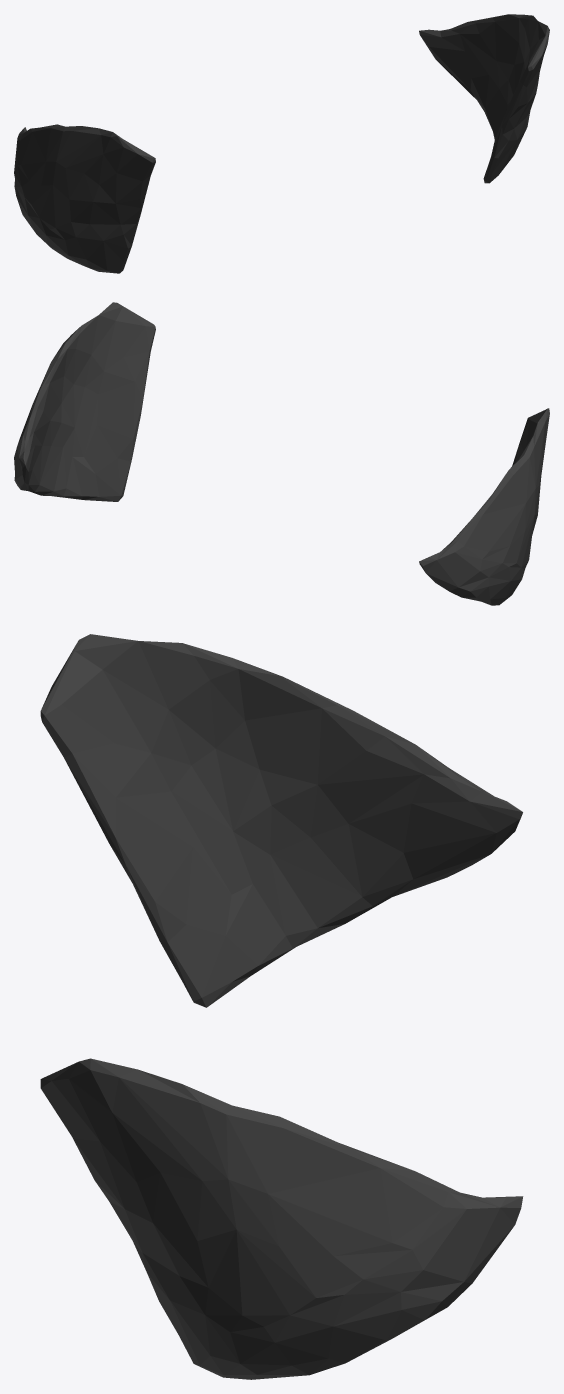
The model's file is fascia_cruris.glb.
3 views of the same model, one above another, from view 1: azimuth 30°, elevation 25°; view 2: azimuth 150°, elevation 25°; view 3: azimuth 270°, elevation 25° (orthographic). The views are drawn at different scales.
Visible parts, largest first — view 1: fascia_cruris; view 2: fascia_cruris; view 3: fascia_cruris.
Part boxes in pixels (<box>): fascia_cruris: <box>14,14,549,273</box>; fascia_cruris: <box>14,302,549,605</box>; fascia_cruris: <box>40,634,523,1379</box>.
Bounding box in the file's own units: 0.00848 × 0.00284 × 0.00365.
1 material, 1 textured.
